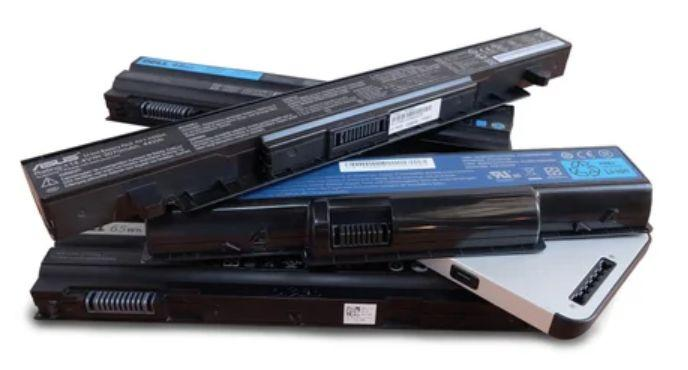battery: (18, 23, 579, 244), (135, 136, 659, 266), (28, 224, 636, 325)
